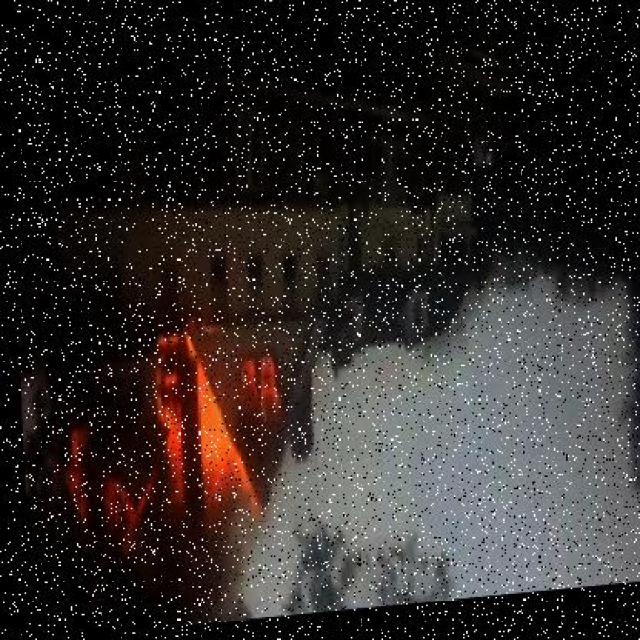fire: (135, 328, 270, 582)
